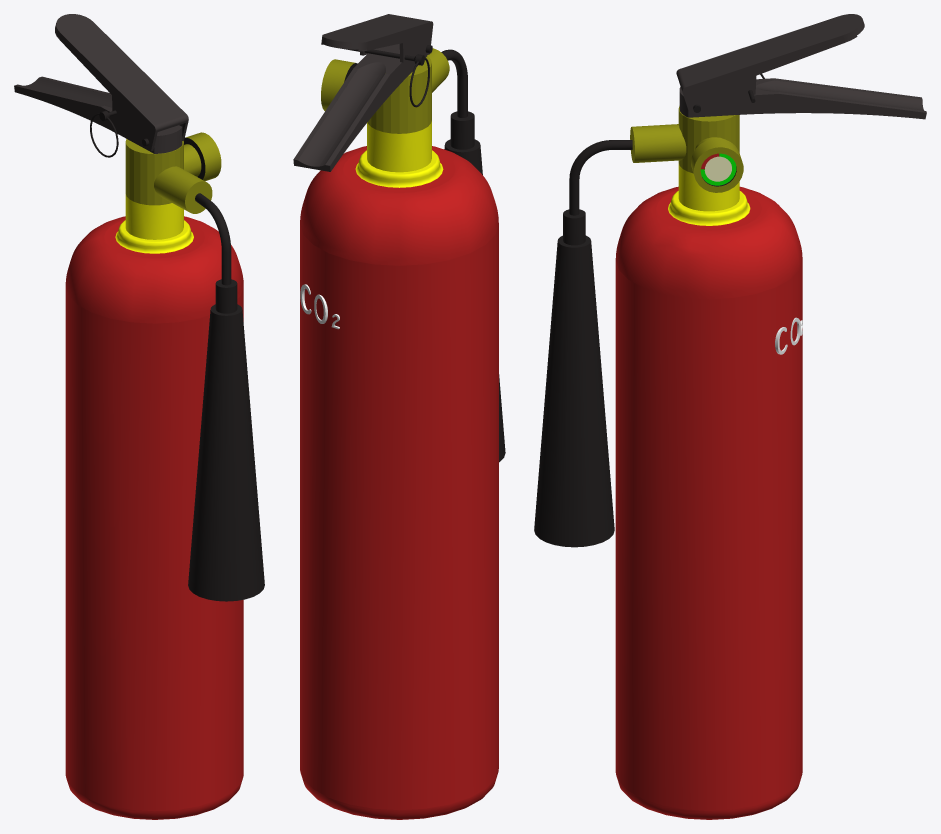
The model's file is xf_extinguisher.glb.
3 renders of one model, left to right at view 1: azimuth 30°, elevation 25°; view 2: azimuth 150°, elevation 25°; view 3: azimuth 270°, elevation 25°, orthographic. The views are drawn at different scales.
Parts seen in each view (by area): view 1: Group1, Group7; view 2: Group1, Group7, CO1; view 3: Group1, Group7.
Boxes of the visible parts, left/top/right/bottom form: Group1: left=14, top=14, right=264, bottom=819; Group7: left=195, top=193, right=231, bottom=285; Group1: left=293, top=14, right=505, bottom=819; Group7: left=441, top=49, right=467, bottom=117; CO1: left=300, top=284, right=327, bottom=323; Group1: left=534, top=14, right=926, bottom=819; Group7: left=569, top=140, right=632, bottom=215.
Bounding box in the file's own units: 149 × 666 × 313.
